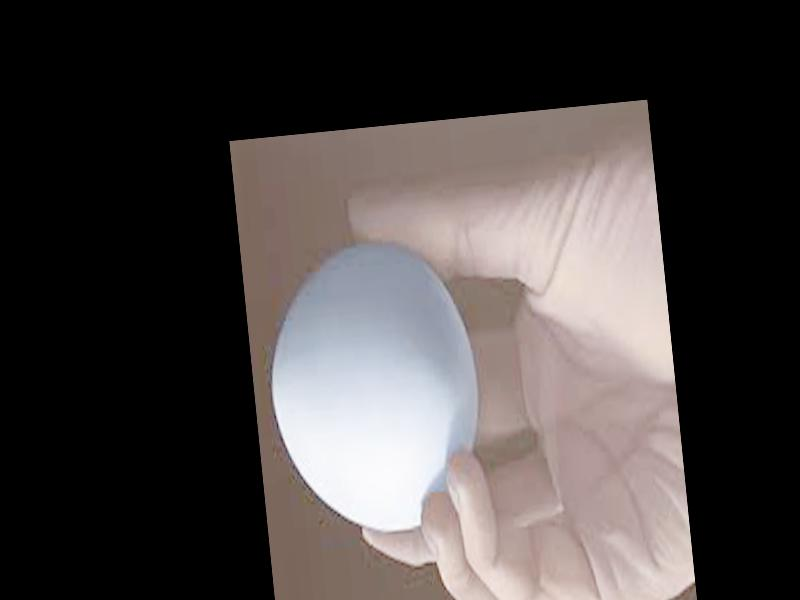Eggs: (257, 237, 488, 544)
